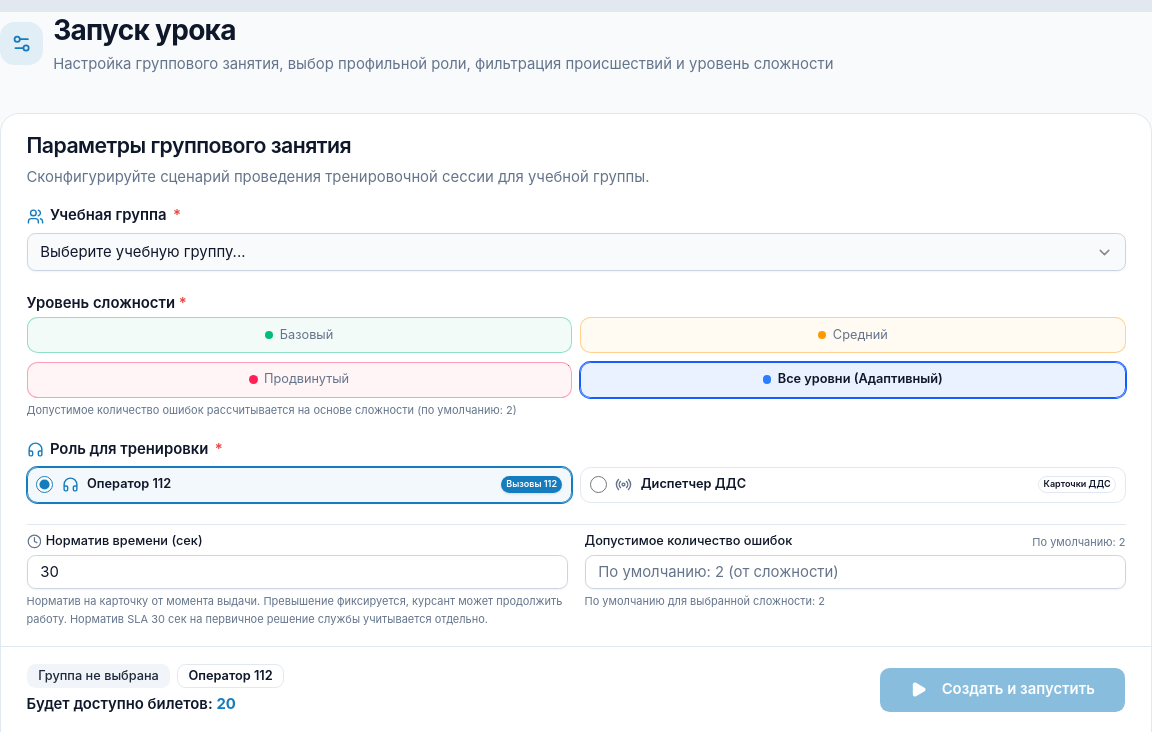
Test: ТЗ 41: Запуск урока (Создание сессии) - Настройка и UI › ТЗ 43: should show cadet counts, mark 0 student groups as disabled and prevent selection
This screenshot has width=1152, height=732.
# Selecting empty group keeps submit disabled
Select "Группа 303 (Резерв) (0 человек) (нет учеников)" in the dropdown named "Выбор Группы": (576, 252) [26,233,1126,271]
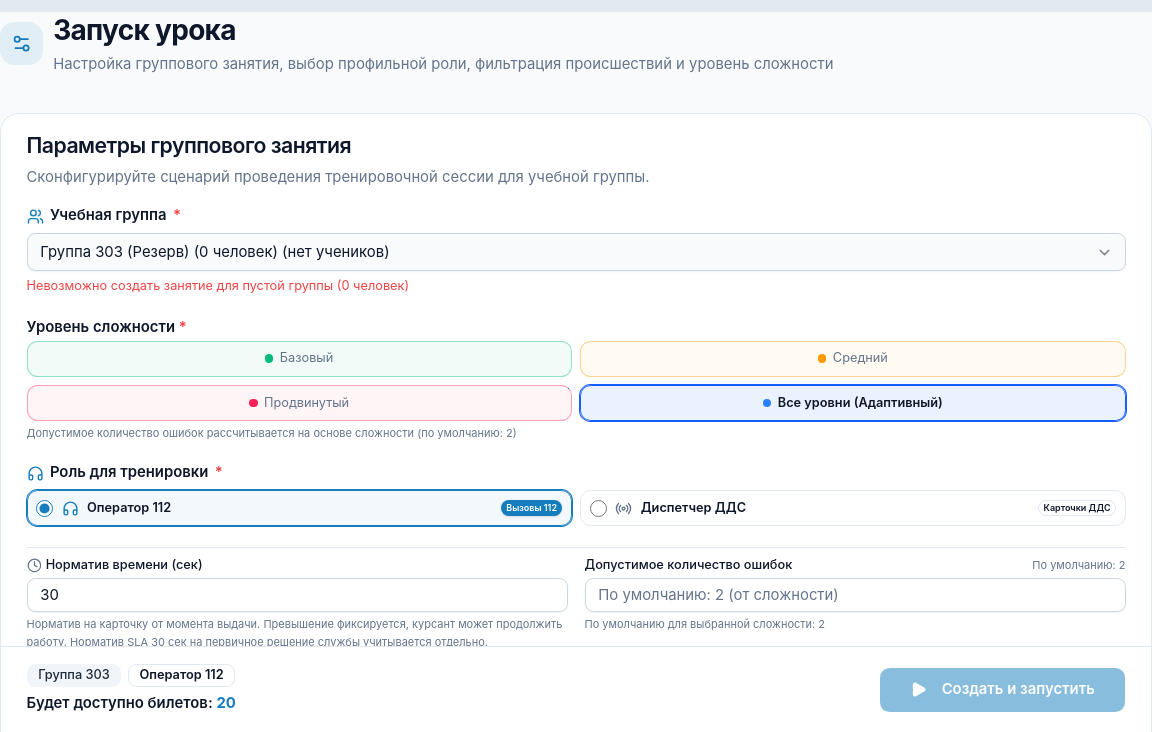
Expected: the button "Создать и запустить" is disabled, [879,666,1126,713]
# Selecting valid group enables submit
Select "Группа 101 (Отделение связи) (2 чел.)" in the dropdown named "Выбор Группы": (576, 252) [26,233,1126,271]
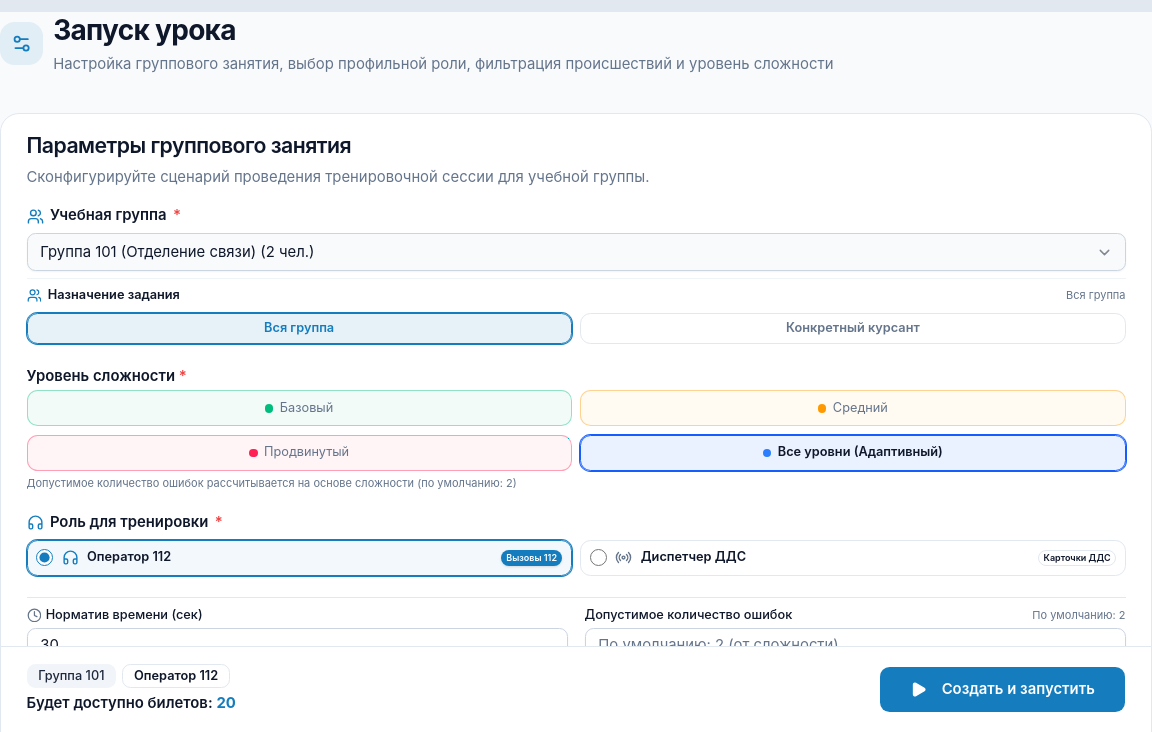
Expected: the button "Создать и запустить" is enabled, [879,666,1126,713]
